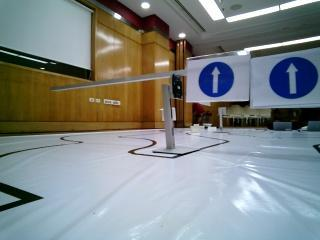straight: (249, 54, 320, 109), (183, 57, 250, 101)
